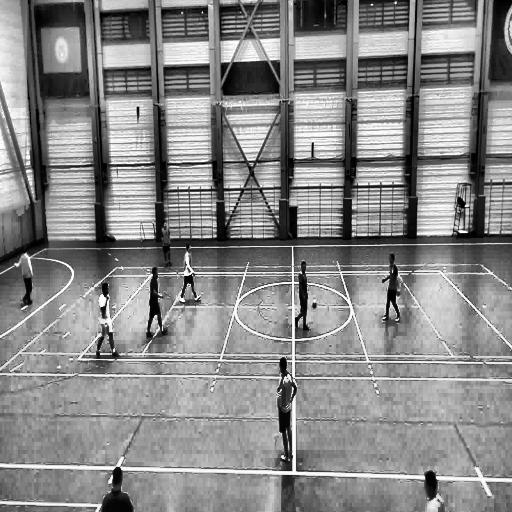ball: (312, 299, 317, 308)
player: (277, 357, 296, 465), (96, 281, 118, 357), (147, 267, 167, 337), (381, 254, 401, 323), (12, 248, 34, 306), (180, 243, 200, 303), (294, 260, 310, 332), (161, 218, 171, 266)
